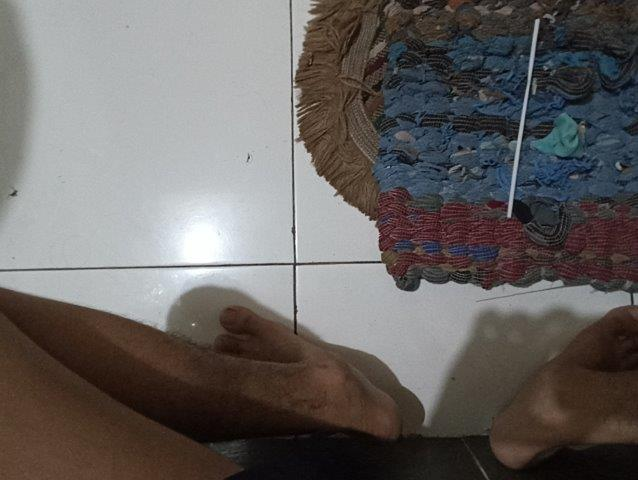sedotan: (507, 20, 540, 216)
